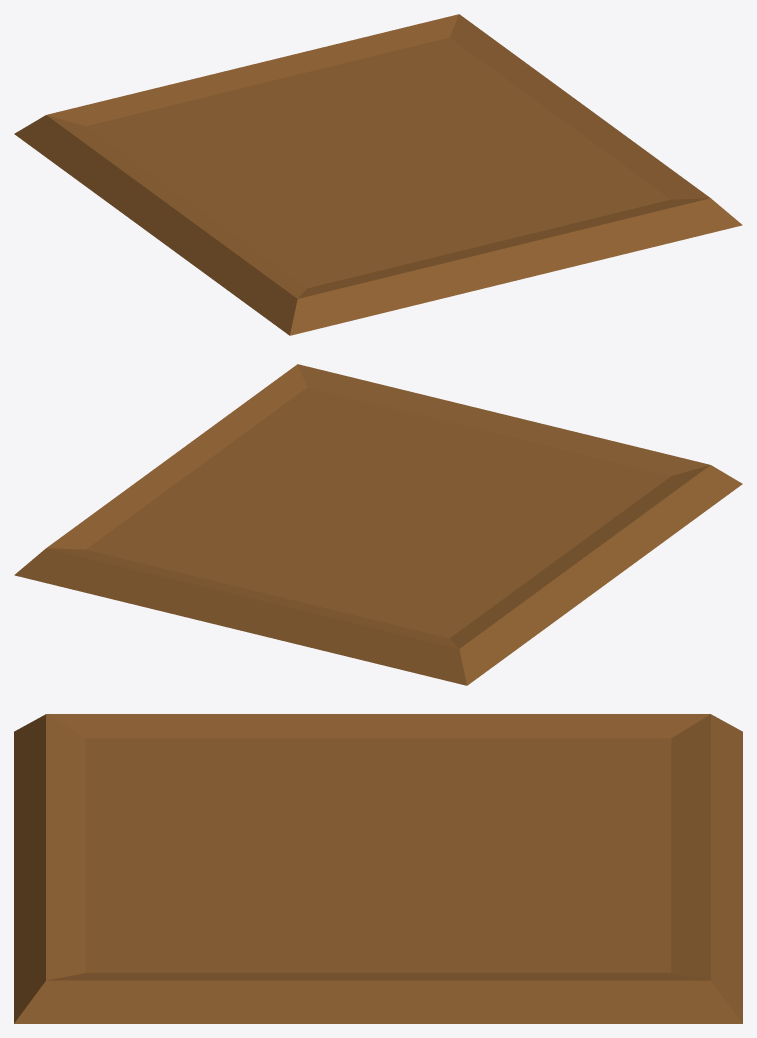
File: PlantPlace.FBX
3 views of the same model, one above another, from view 1: azimuth 30°, elevation 25°; view 2: azimuth 150°, elevation 25°; view 3: azimuth 270°, elevation 25° (orthographic). The views are drawn at different scales.
Visible parts, largest first — view 1: Plane001; view 2: Plane001; view 3: Plane001.
Part boxes in pixels (left/top/right/bottom): Plane001: left=14, top=14, right=742, bottom=335; Plane001: left=14, top=364, right=742, bottom=685; Plane001: left=14, top=714, right=742, bottom=1023.
Size of the model in its own units: 153 by 7.47 by 162.
Materials: 1 (1 with a texture image).
